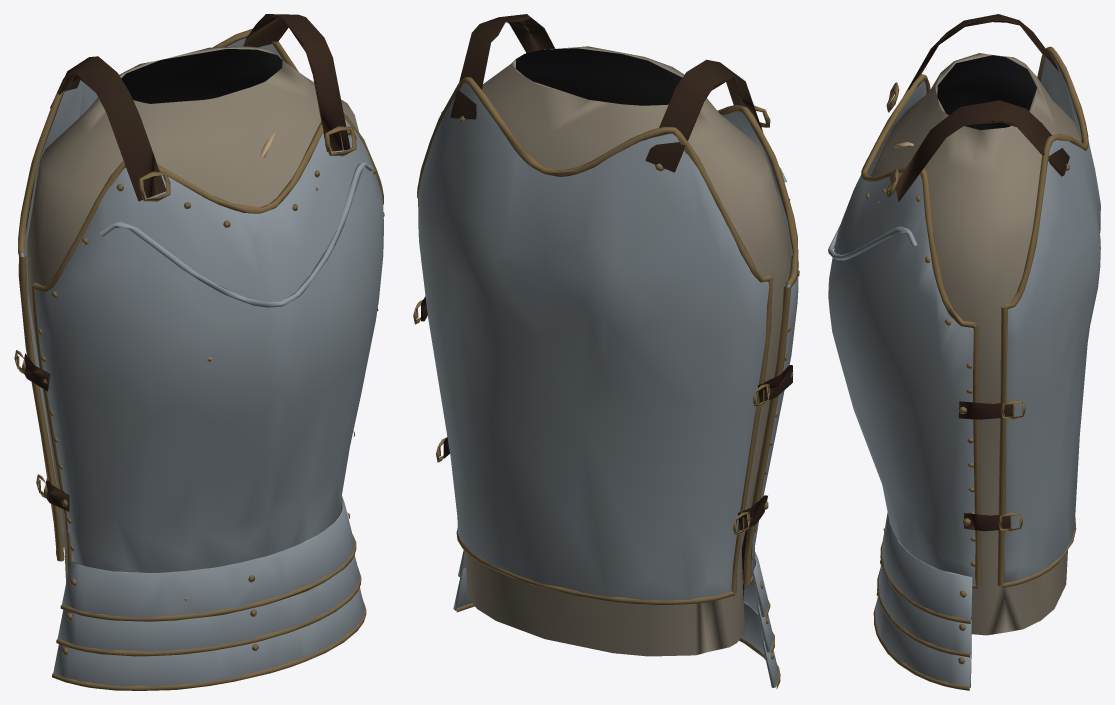
The picture shows the model from 3 angles, left to right: view 1: azimuth 30°, elevation 25°; view 2: azimuth 150°, elevation 25°; view 3: azimuth 270°, elevation 25°; orthographic projection. The views are drawn at different scales.
Visible parts, largest first — view 1: hammered plate, quilted linen lining; view 2: hammered plate, quilted linen lining; view 3: hammered plate, quilted linen lining.
Boxes of the visible parts, <box> form: hammered plate: <box>14,28,384,690</box>; quilted linen lining: <box>22,14,378,582</box>; hammered plate: <box>413,76,799,688</box>; quilted linen lining: <box>421,14,792,656</box>; hammered plate: <box>828,46,1100,690</box>; quilted linen lining: <box>870,14,1081,635</box>.
Size of the model in its own units: 0.3921 by 0.6465 by 0.2848.
